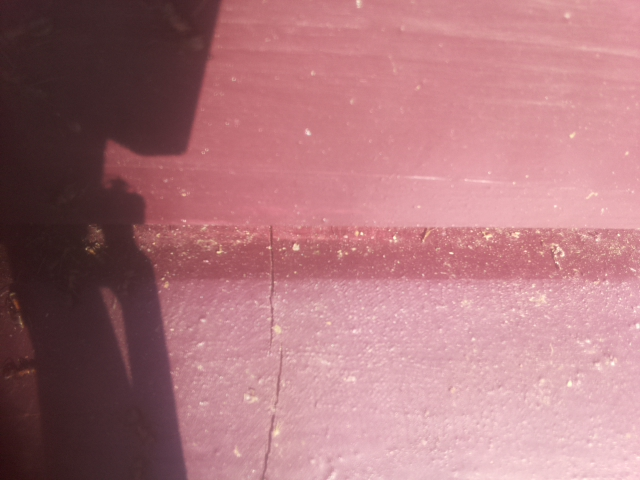ant: (3, 284, 32, 336), (79, 216, 111, 263)
